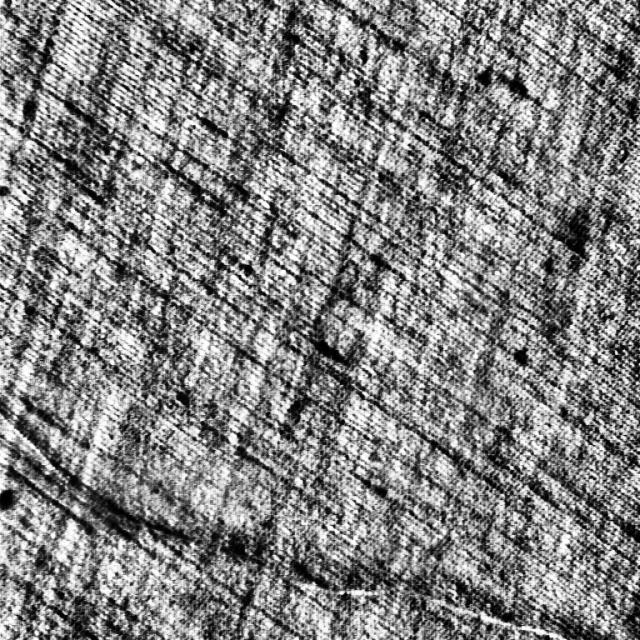Stitch: (257, 506, 580, 640)
